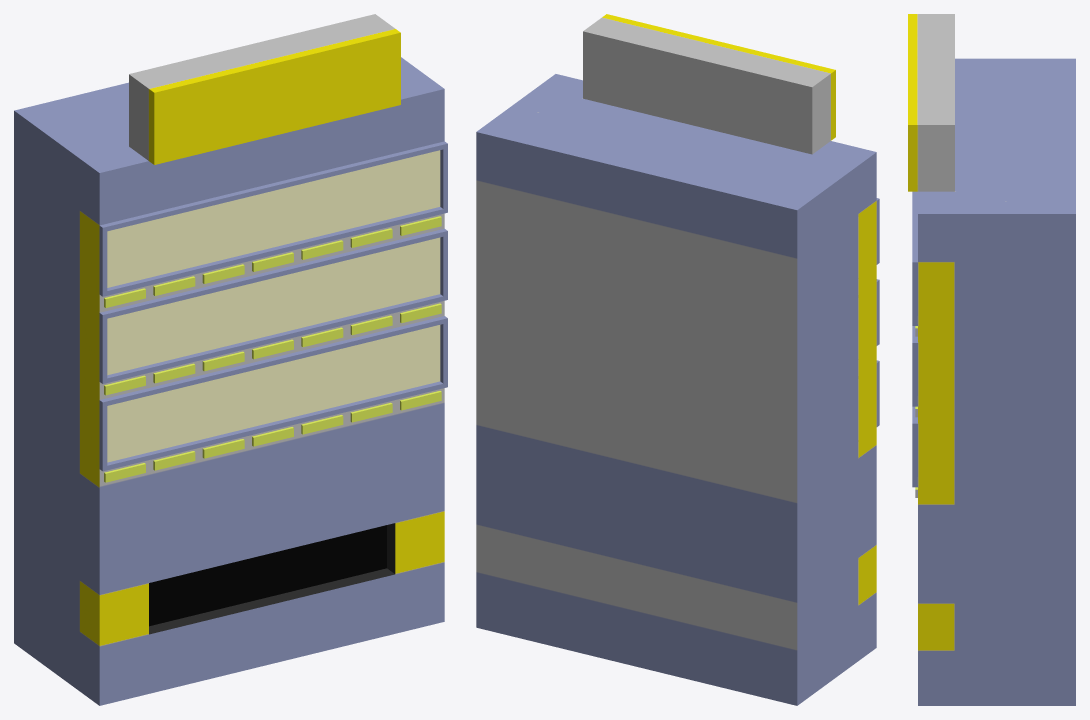
The model's file is vendingMachineVendingMachine2.fbx.
3 renders of one model, left to right at view 1: azimuth 30°, elevation 25°; view 2: azimuth 150°, elevation 25°; view 3: azimuth 270°, elevation 25°, orthographic. The views are drawn at different scales.
Visible parts, largest first — view 1: VendingMachine2; view 2: VendingMachine2; view 3: VendingMachine2.
Boxes of the visible parts, x1=… form: VendingMachine2: x1=14, y1=14, x2=447, y2=705; VendingMachine2: x1=476, y1=14, x2=879, y2=705; VendingMachine2: x1=908, y1=14, x2=1075, y2=705.
Size of the model in its own units: 0.7293 by 0.3329 by 1.22.
Materials: 1 (1 with a texture image).
